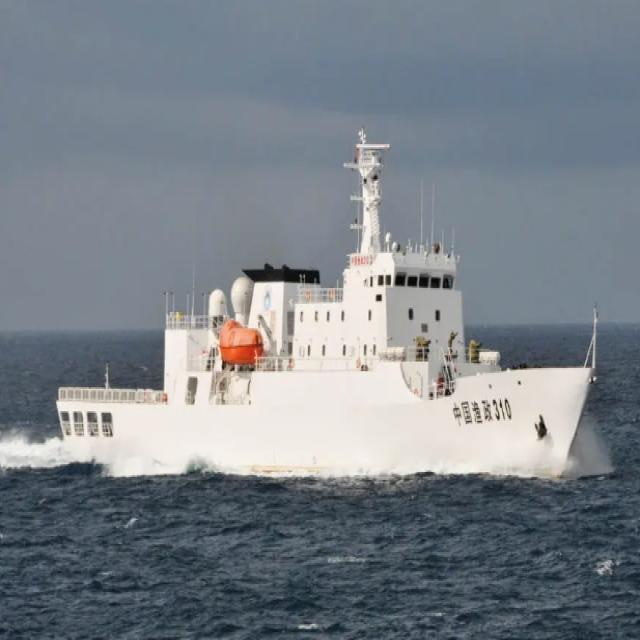navalvessels: (49, 129, 603, 474)
